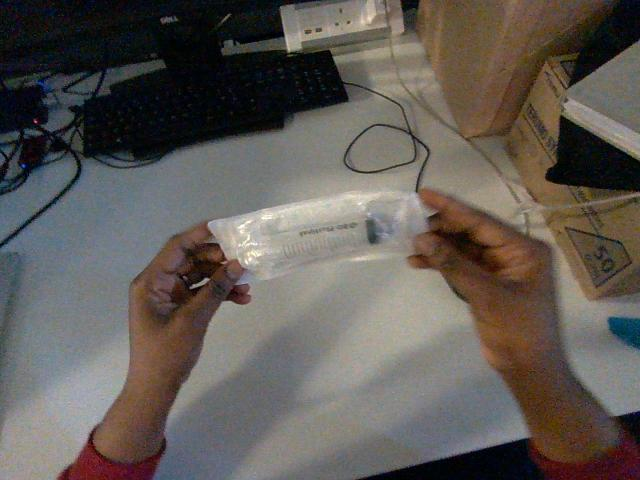syringe: (208, 191, 432, 279)
